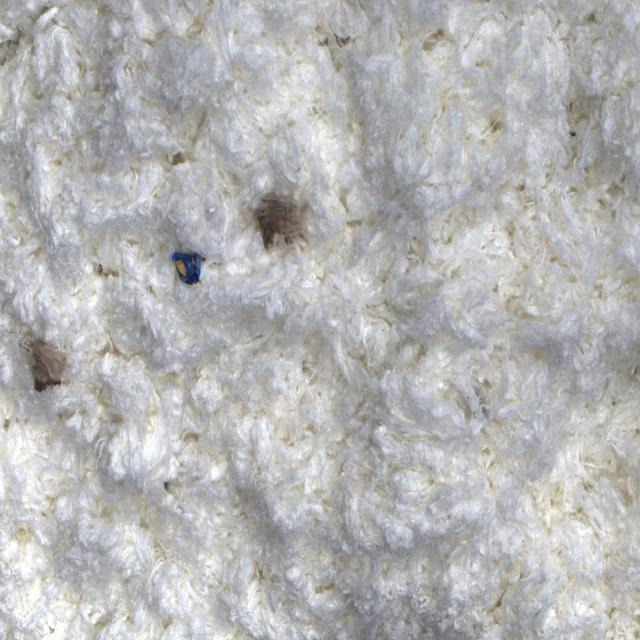dust: (20, 332, 78, 399), (251, 192, 306, 255), (167, 247, 214, 290)
